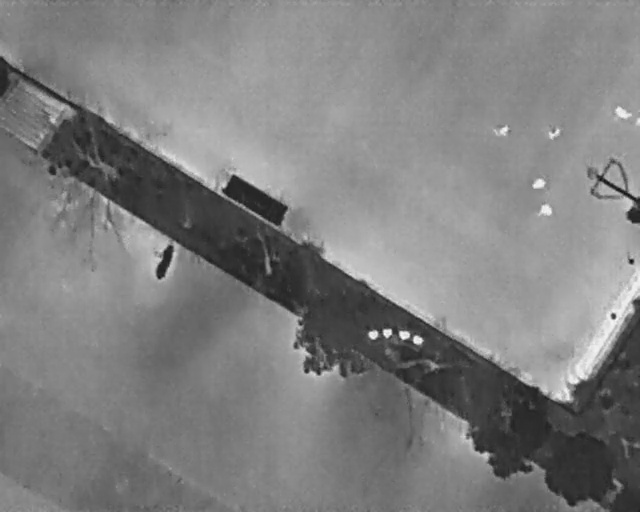Bicycle: (150, 242, 176, 283)
Person: (610, 101, 636, 125), (490, 123, 510, 138), (538, 203, 555, 218), (532, 175, 547, 190), (547, 125, 561, 141)
